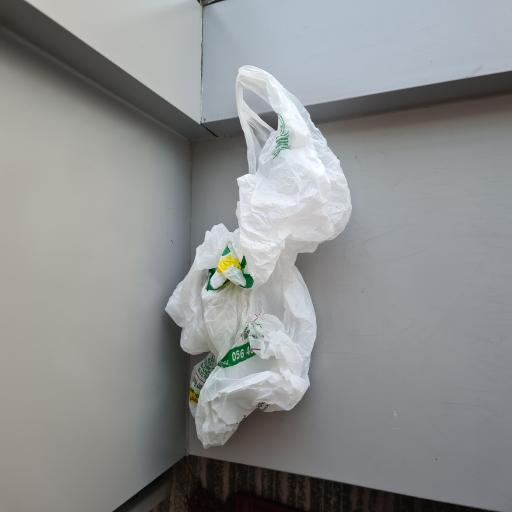plastic bag: (162, 61, 353, 450)
